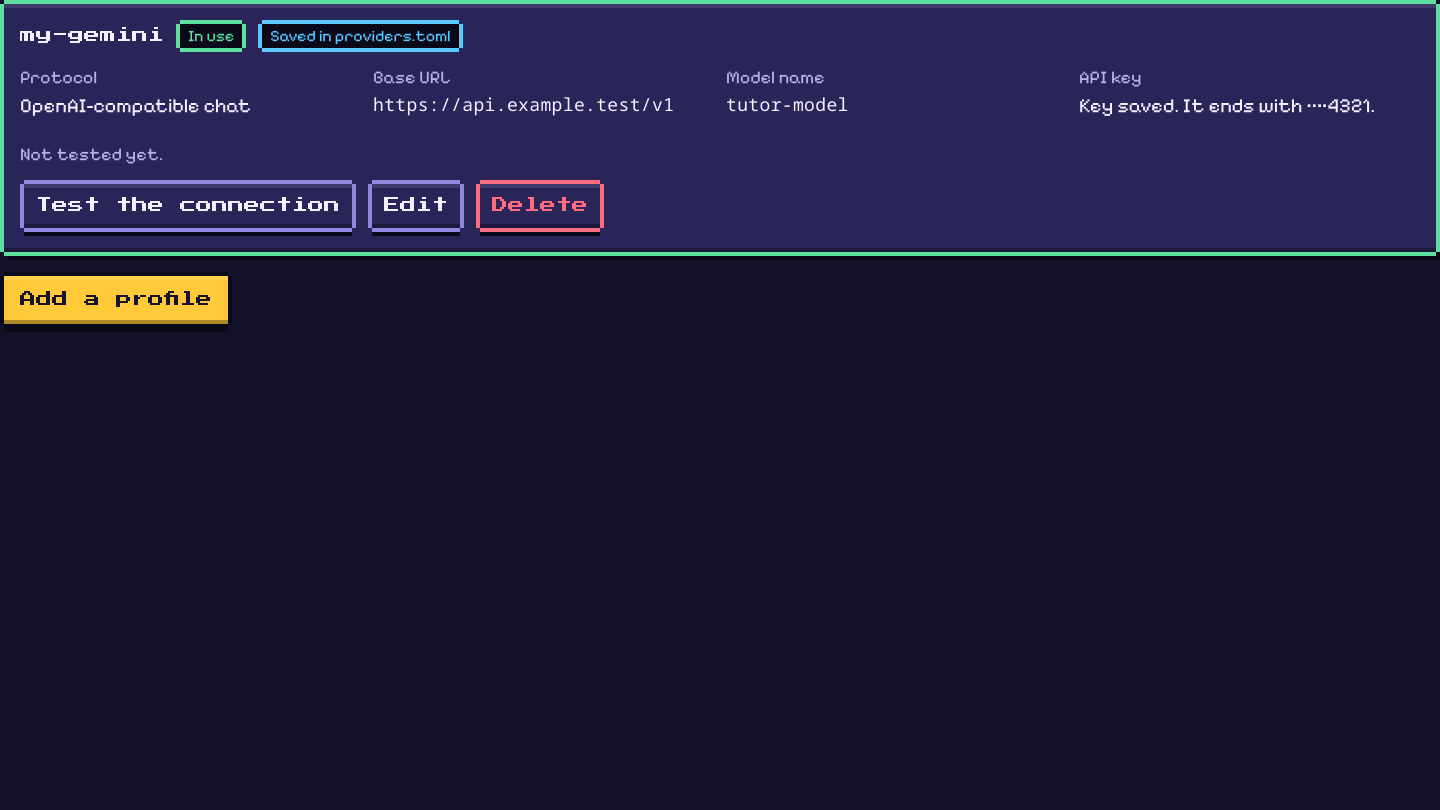
ProviderManager › shows a test that succeeds, and a program that is busy
Click the button "Test the connection". click: (188,206)
box: [24,184,352,228]
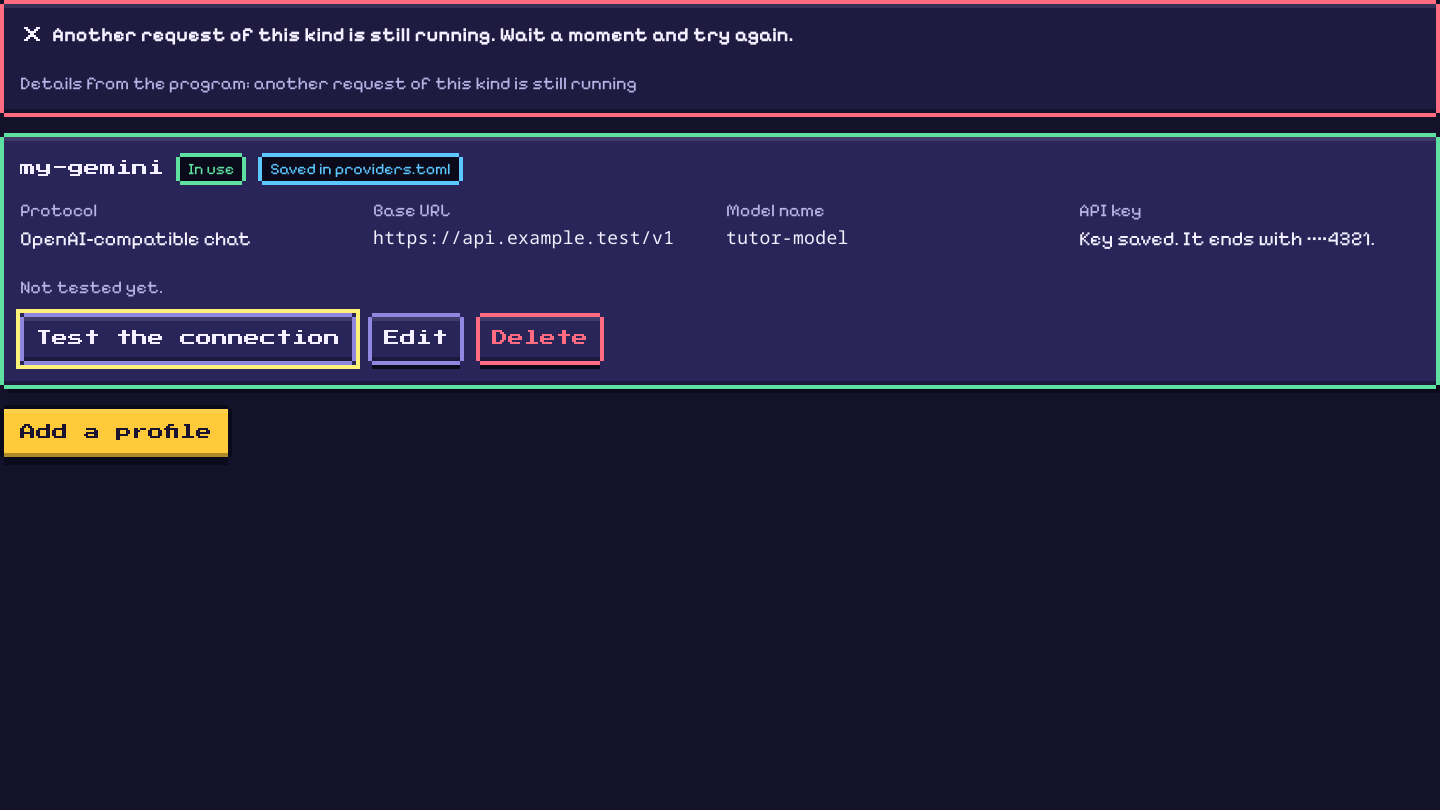
expect the text "Another request of this kind is still running" is shown: met, box [52,23,794,47]
Click the button "Test the connection". click: (188,339)
box: [24,317,352,361]
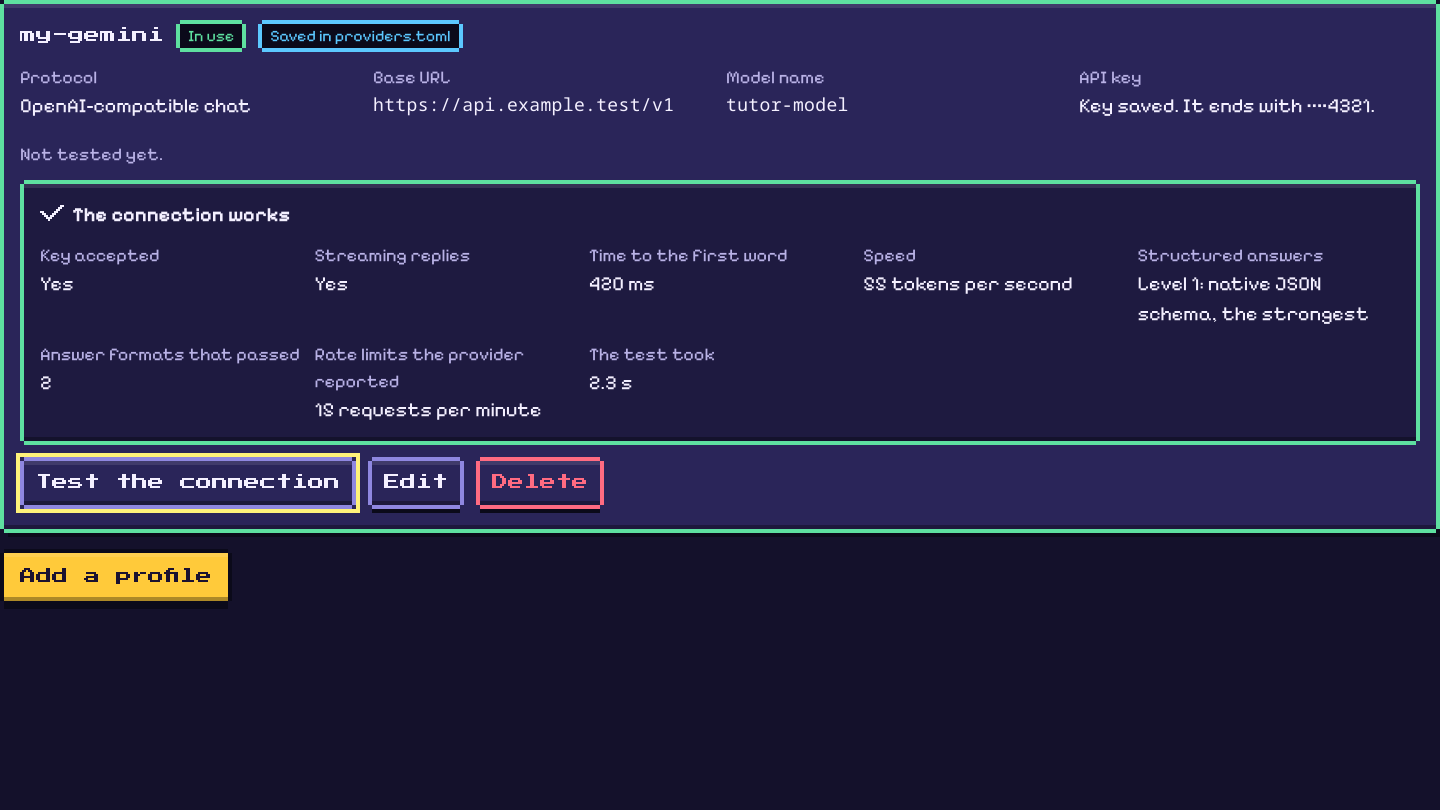
expect the text "The connection works" is shown: met, box [72,200,290,230]
